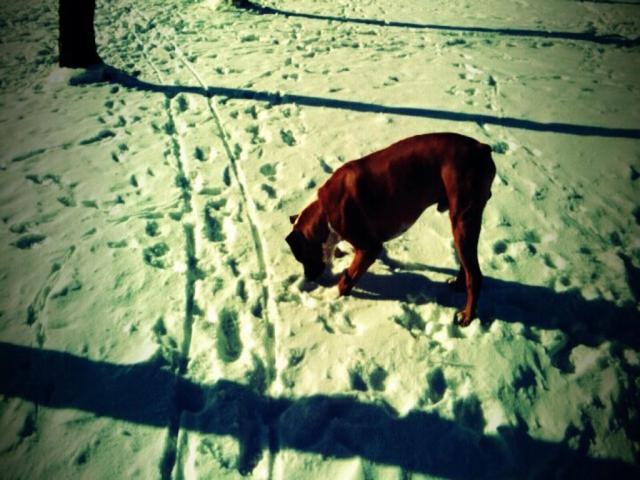Dog: (289, 131, 497, 322)
